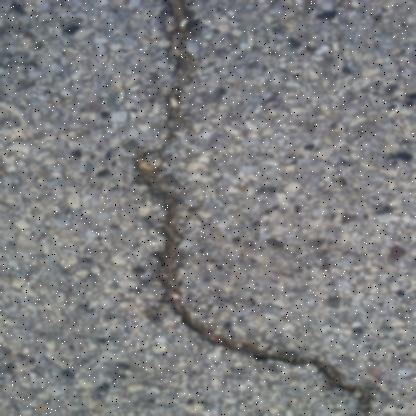Cracks: (123, 0, 395, 415)
